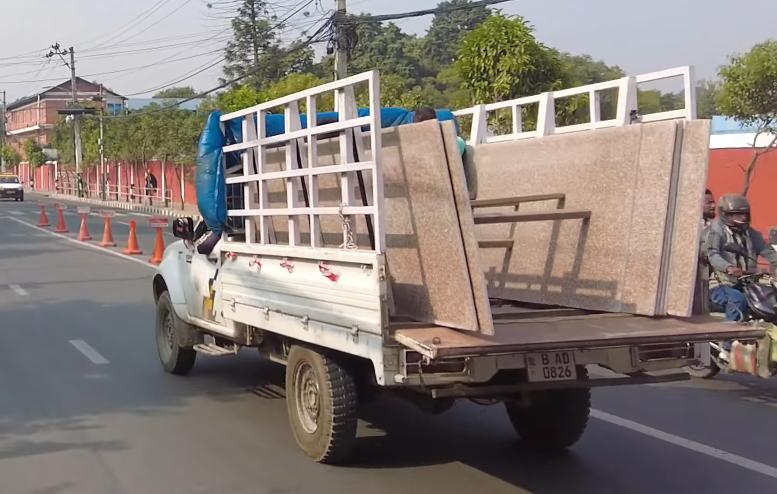taxi: (0, 159, 33, 209)
transport_vehicle: (148, 57, 739, 471)
